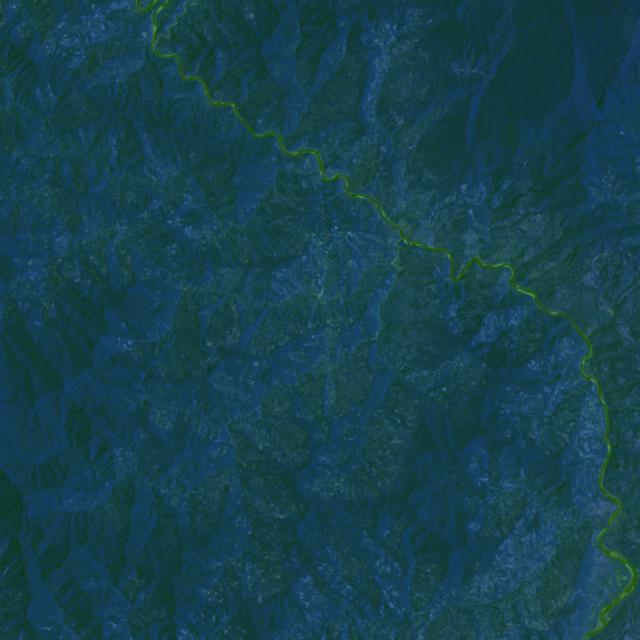landslides: (40, 626, 59, 632), (316, 285, 324, 298)
